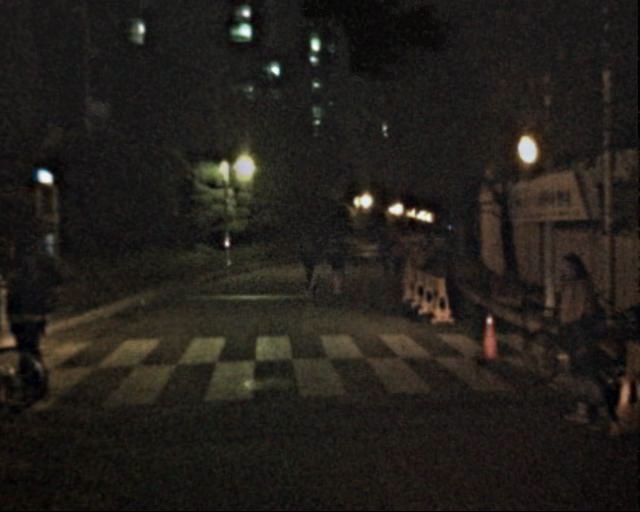person: (538, 257, 608, 427), (292, 226, 322, 299), (320, 233, 347, 299), (373, 231, 394, 283), (383, 231, 404, 283)
